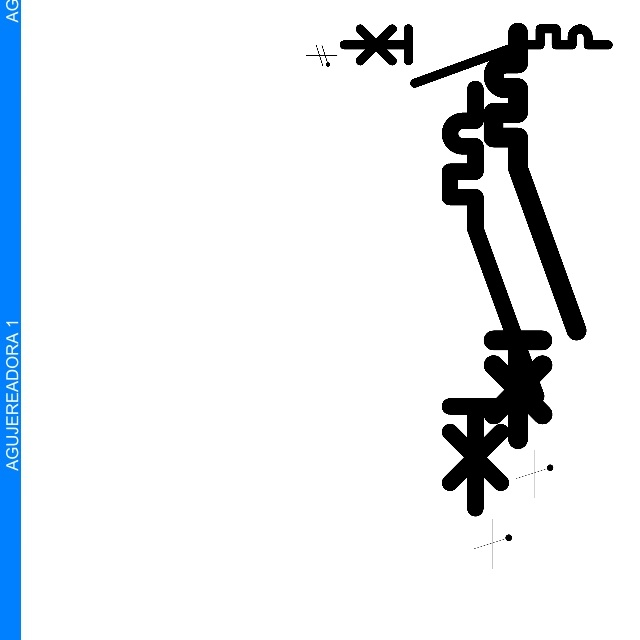interruptor_termomagnetico: (439, 78, 547, 519), (483, 22, 587, 449), (337, 22, 614, 90)
